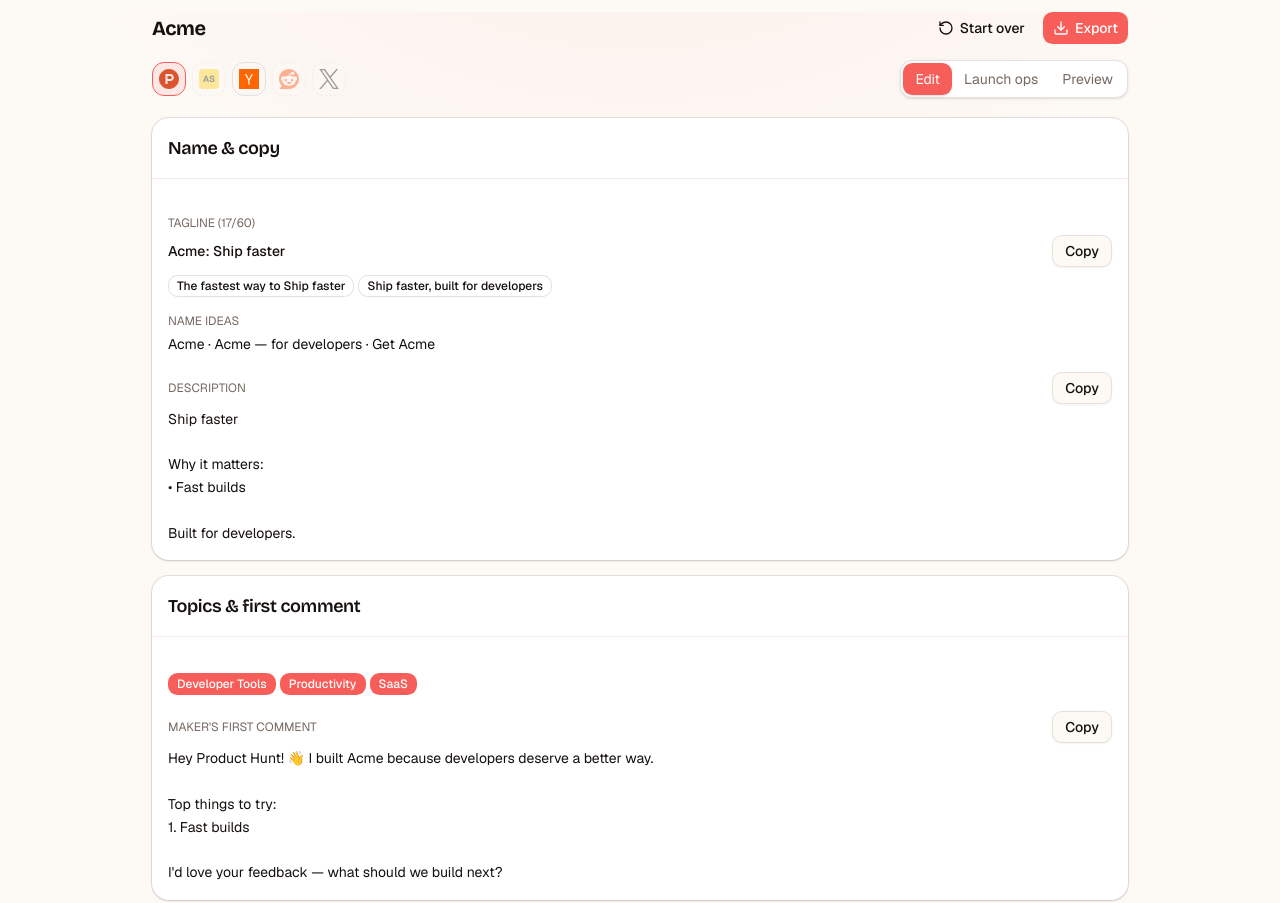
Test case: PostKit launch-ops tab › shows a Launch ops tab for Product Hunt and keeps ops out of the Edit view
expect the text "Hour-by-hour (PT)" is not shown: met
// Switching to the tab reveals the ops content.
Click the button "Launch ops" at (1001,79), box [952, 63, 1050, 95]
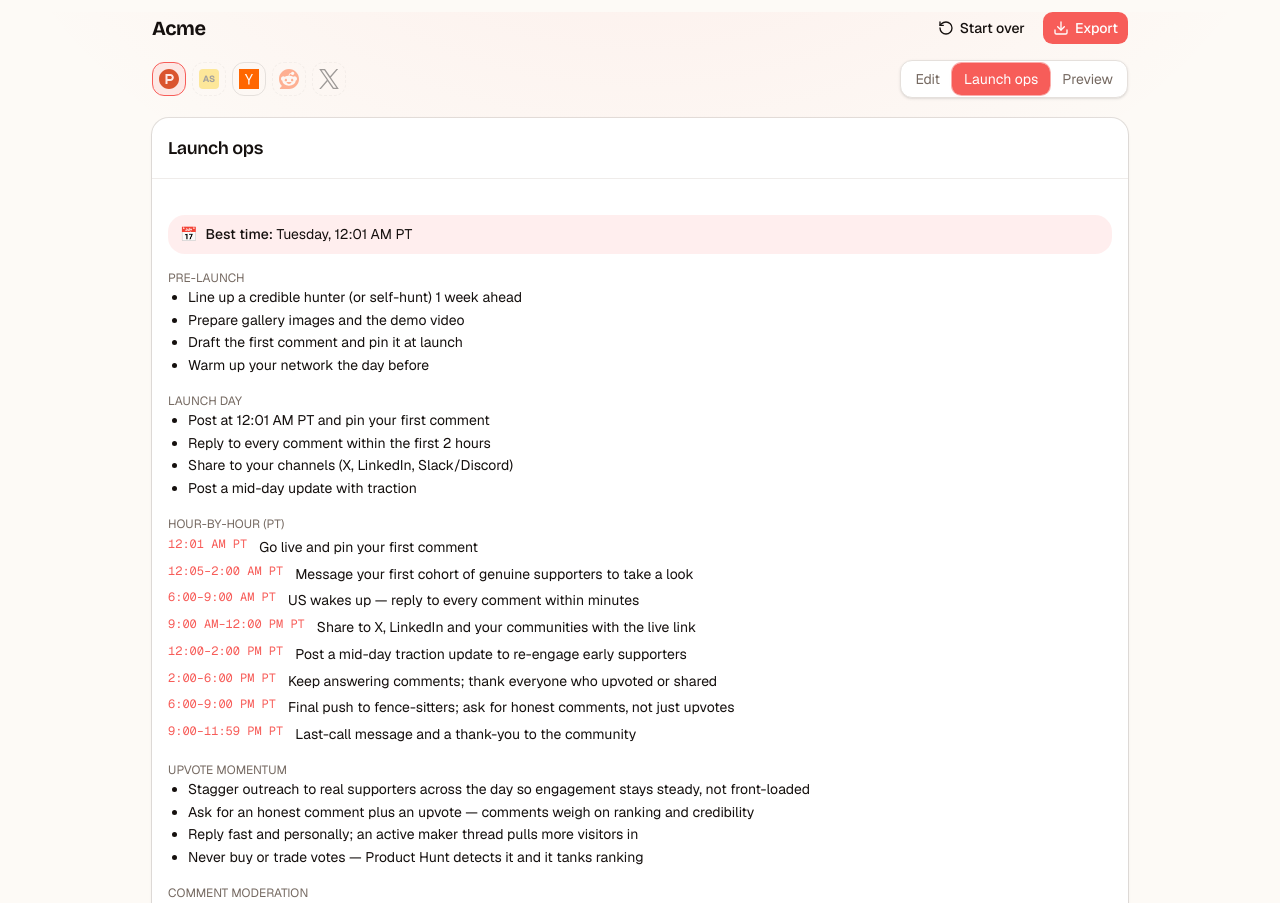
expect the text "Hour-by-hour (PT)" is shown: met, box [168, 516, 284, 532]
